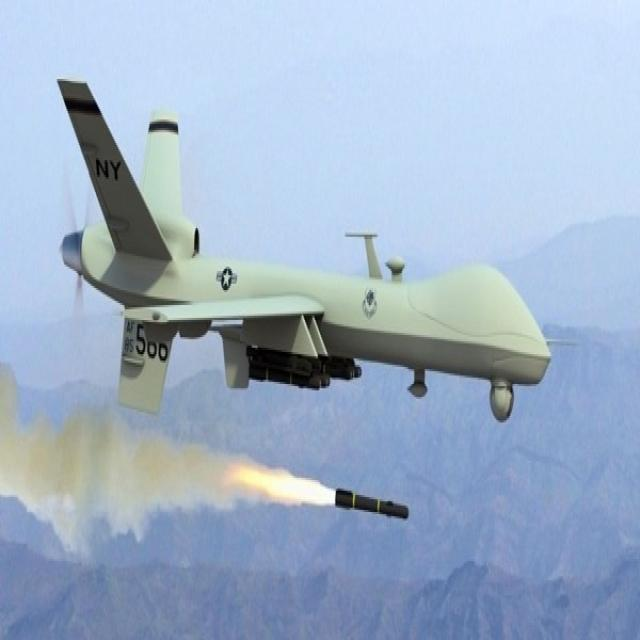MQ9: (39, 35, 614, 489)
